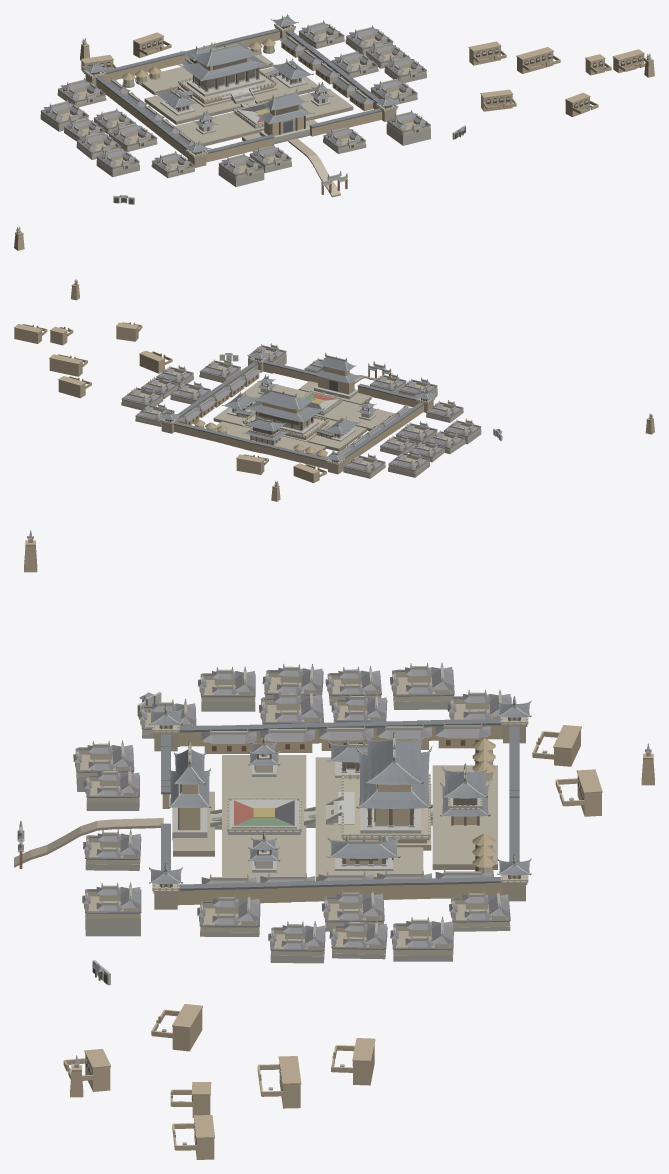
Rendered from sect_nihang.glb.
The picture shows the model from 3 angles, top to bottom: view 1: azimuth 30°, elevation 25°; view 2: azimuth 150°, elevation 25°; view 3: azimuth 270°, elevation 25°; orthographic projection. The views are drawn at different scales.
Visible parts, largest first — view 1: sect_nihang; view 2: sect_nihang; view 3: sect_nihang.
Boxes of the visible parts, x1=… form: sect_nihang: x1=14, y1=14, x2=654, y2=250; sect_nihang: x1=14, y1=279, x2=654, y2=501; sect_nihang: x1=14, y1=530, x2=654, y2=1159.
Size of the model in its own units: 1141 by 115 by 548.
